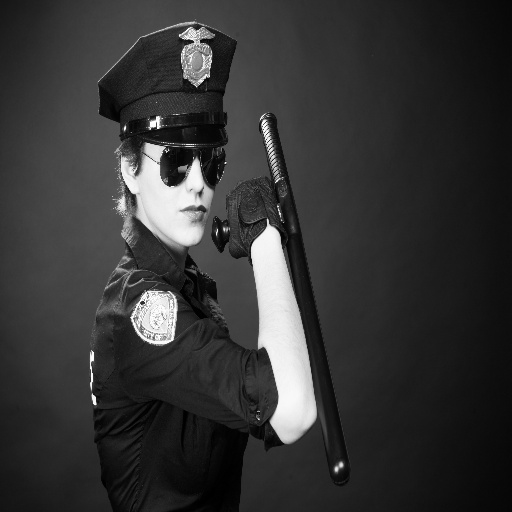hand: (228, 177, 280, 255)
